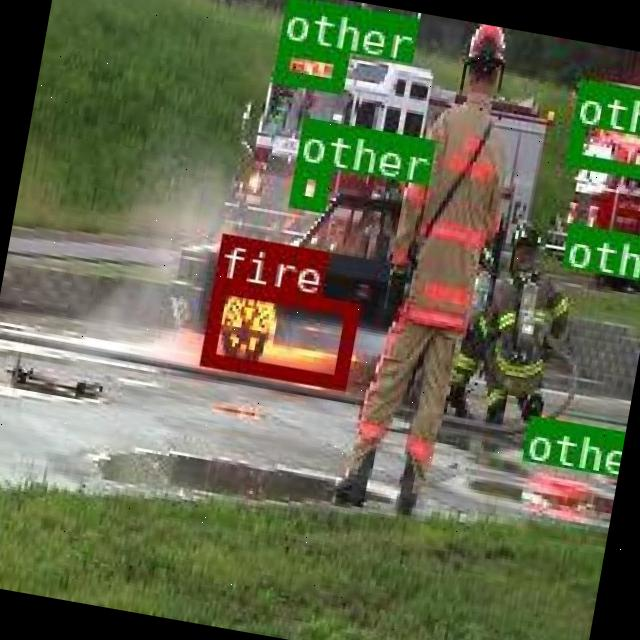fire: (198, 278, 358, 388)
